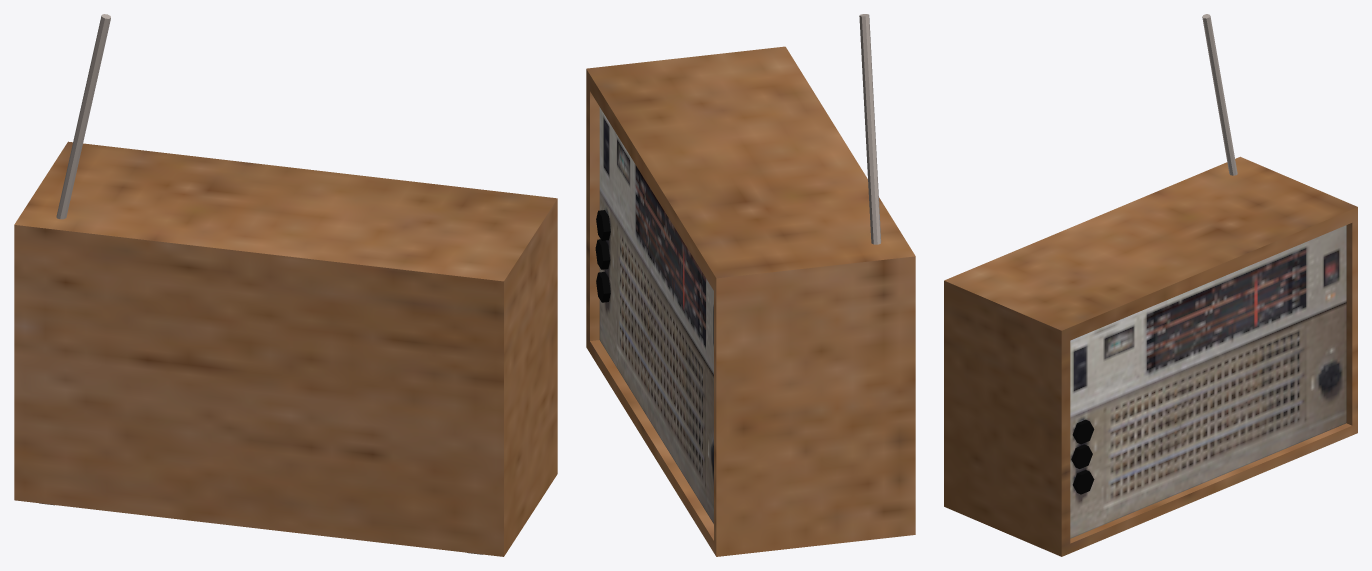
File: radio.fbx
3 renders of one model, left to right at view 1: azimuth 30°, elevation 25°; view 2: azimuth 150°, elevation 25°; view 3: azimuth 270°, elevation 25°, orthographic. The views are drawn at different scales.
Visible parts, largest first — view 1: pCube8; view 2: pCube8; view 3: pCube8.
Part boxes in pixels (x1,y1,x2,y2): pCube8: (14,14,557,556); pCube8: (586,14,915,556); pCube8: (944,14,1357,556).
Bounding box in the file's own units: 144 × 155 × 145.
4 materials, 1 textured.
